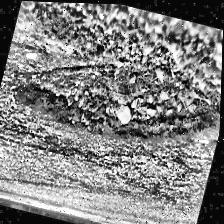pothole: (7, 28, 223, 166)
